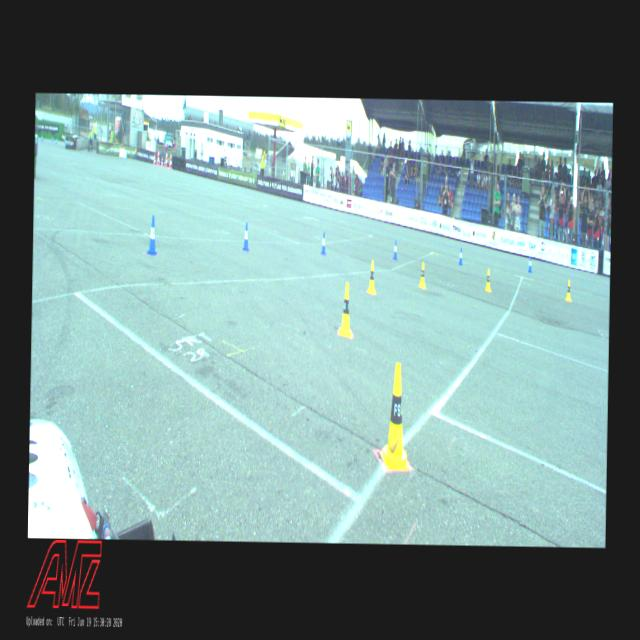blue_cone: (147, 216, 157, 254), (242, 222, 248, 250), (320, 232, 326, 254), (392, 240, 397, 260), (458, 247, 462, 265), (528, 256, 532, 272)
yellow_cone: (380, 363, 411, 469), (338, 282, 352, 337), (368, 260, 376, 294), (419, 262, 425, 288), (484, 268, 490, 292), (565, 279, 571, 302)
